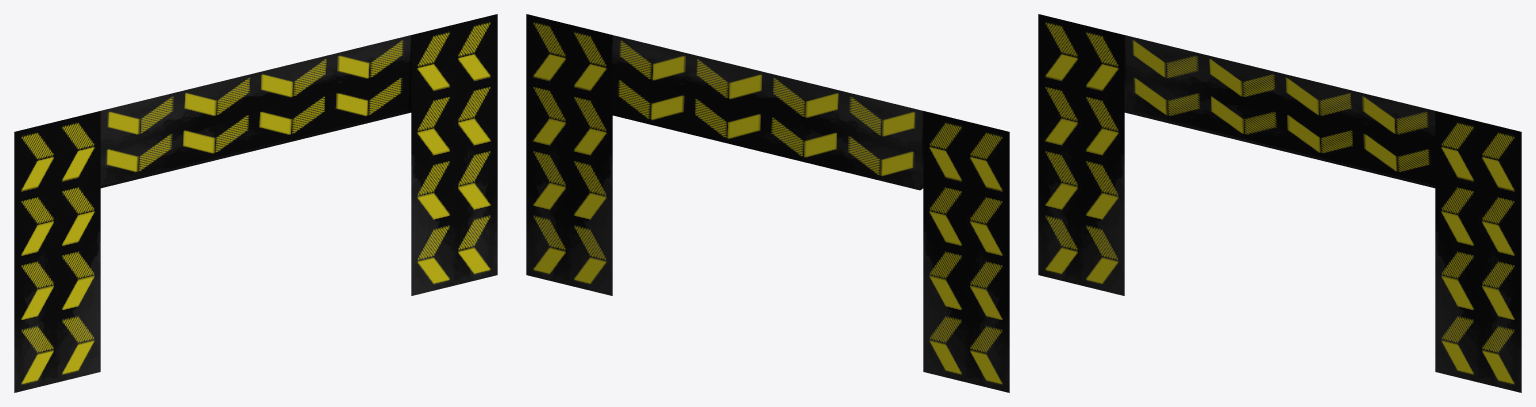
The model's file is Arrow.fbx.
3 views of the same model, side by side, from view 1: azimuth 30°, elevation 25°; view 2: azimuth 150°, elevation 25°; view 3: azimuth 330°, elevation 25° (orthographic).
Visible parts, largest first — view 1: Arrow_Box1, Arrow_Box; view 2: Arrow_Box1, Arrow_Box; view 3: Arrow_Box1, Arrow_Box.
Part boxes in pixels (x1,y1,x2,y2): Arrow_Box1: (14, 14, 497, 392); Arrow_Box: (100, 35, 411, 188); Arrow_Box1: (526, 14, 1009, 392); Arrow_Box: (610, 35, 923, 190); Arrow_Box1: (1038, 14, 1521, 392); Arrow_Box: (1124, 35, 1435, 188).
Size of the model in its own units: 5.31 by 2.74 by 0.056.
